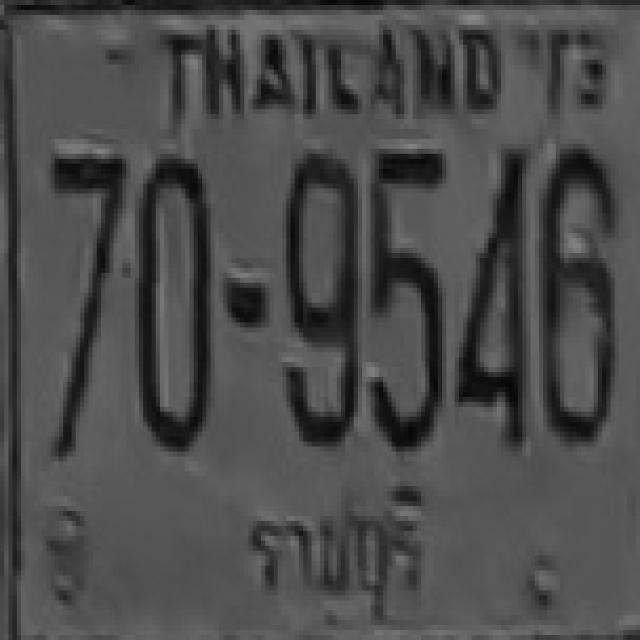0: (134, 154, 210, 442), (366, 243, 438, 447), (282, 149, 358, 337)
4: (453, 146, 524, 444)
7: (51, 151, 122, 335)
9: (282, 191, 358, 444)
Ratchaburi: (230, 476, 435, 628)
